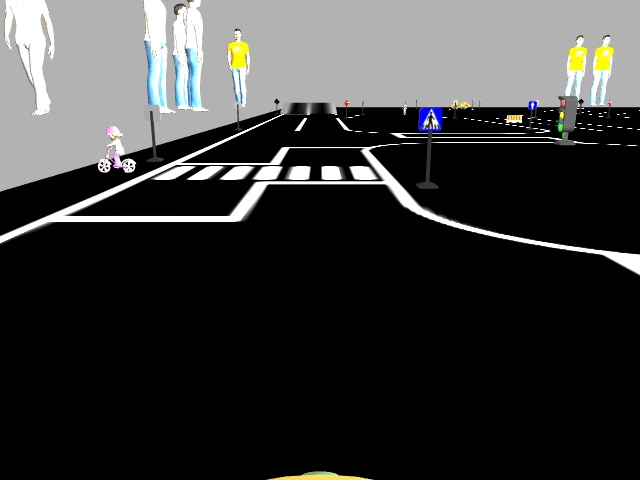Crosswalk: (418, 105, 443, 131)
Pedestrian: (90, 122, 137, 174)
TrafficLight: (554, 93, 578, 132)
